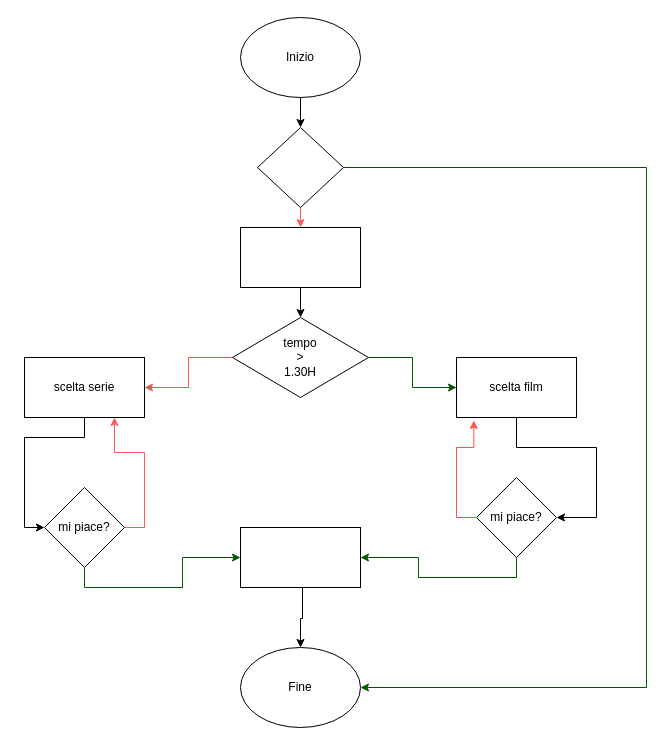
Image size: 672x745. Some labels were removed from this diagram. Here are the shapes that lost their labels. From the top down, the box of each, then its label:
(256, 126, 344, 208): Ho sonno?
(240, 226, 360, 288): Aprire netflix
(240, 526, 360, 588): guardo
